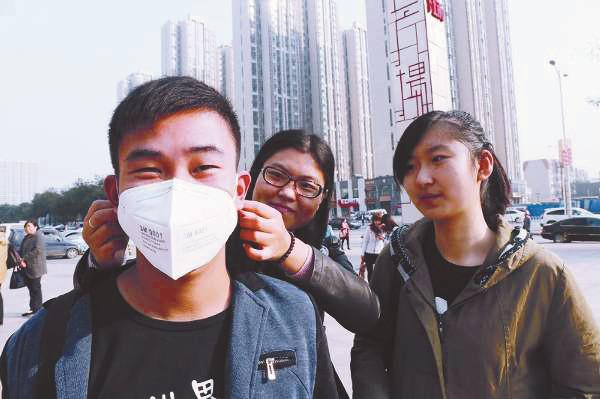NONE: (402, 144, 476, 214), (256, 163, 326, 227)
OK: (117, 139, 238, 264)
